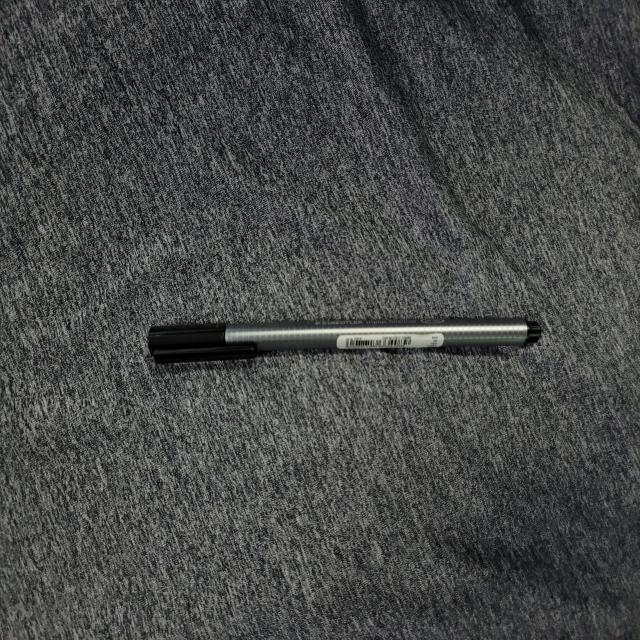caneta: (136, 290, 548, 366)
